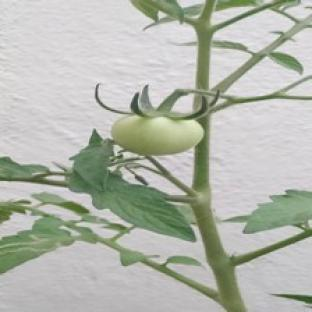Tomato: (112, 115, 203, 155)
